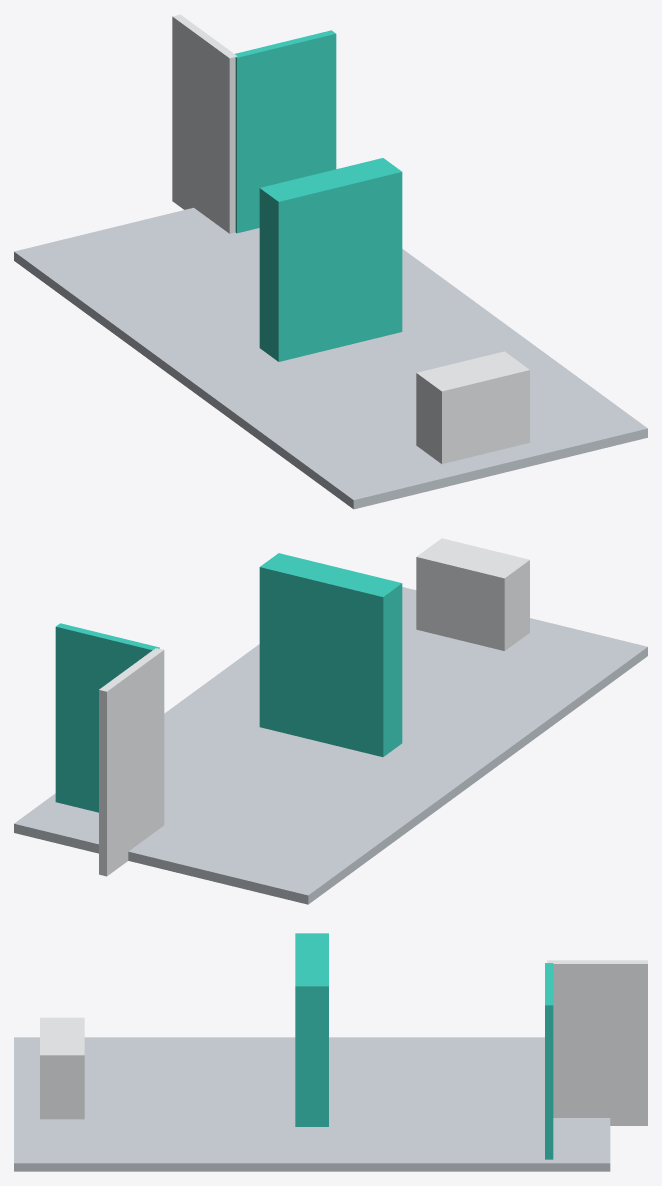
3 views of the same model, one above another, from view 1: azimuth 30°, elevation 25°; view 2: azimuth 150°, elevation 25°; view 3: azimuth 270°, elevation 25° (orthographic). The views are drawn at different scales.
Parts seen in each view (by area): view 1: Exhibition Booth Concept; view 2: Exhibition Booth Concept; view 3: Exhibition Booth Concept.
Part boxes in pixels (box(x1,y1,x2,y2)): Exhibition Booth Concept: box(14, 14, 647, 509); Exhibition Booth Concept: box(14, 538, 647, 904); Exhibition Booth Concept: box(14, 933, 647, 1171).
Bounding box in the file's own units: 4 × 2.4 × 8.51.
